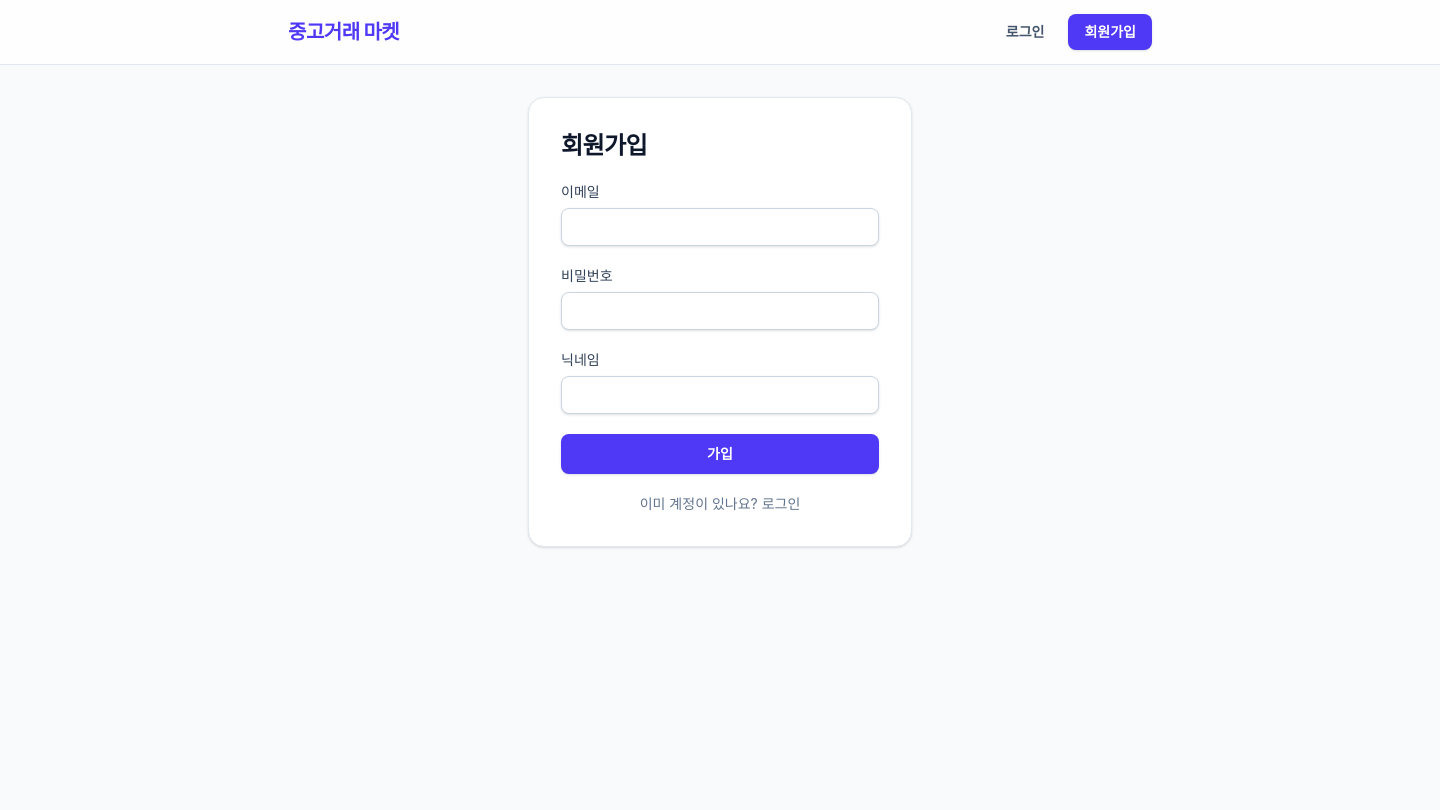
중복 이메일이면 서버 메시지를 alert로 보여준다
In the field labelled "이메일": (720, 227) x1=561 y1=208 x2=879 y2=246, type "a@b.com"
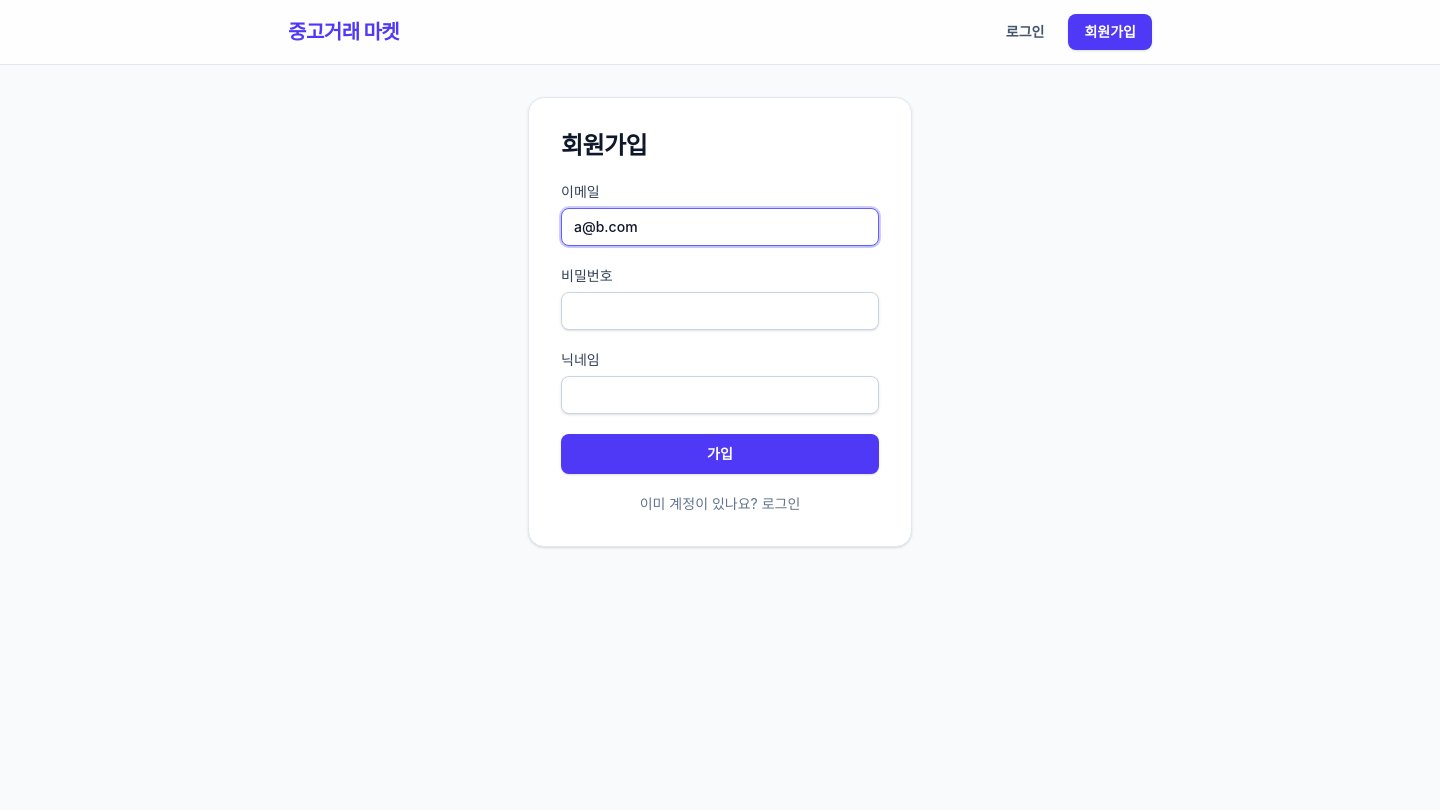
In the password field labelled "비밀번호": (720, 311) x1=561 y1=292 x2=879 y2=330, type "password123"
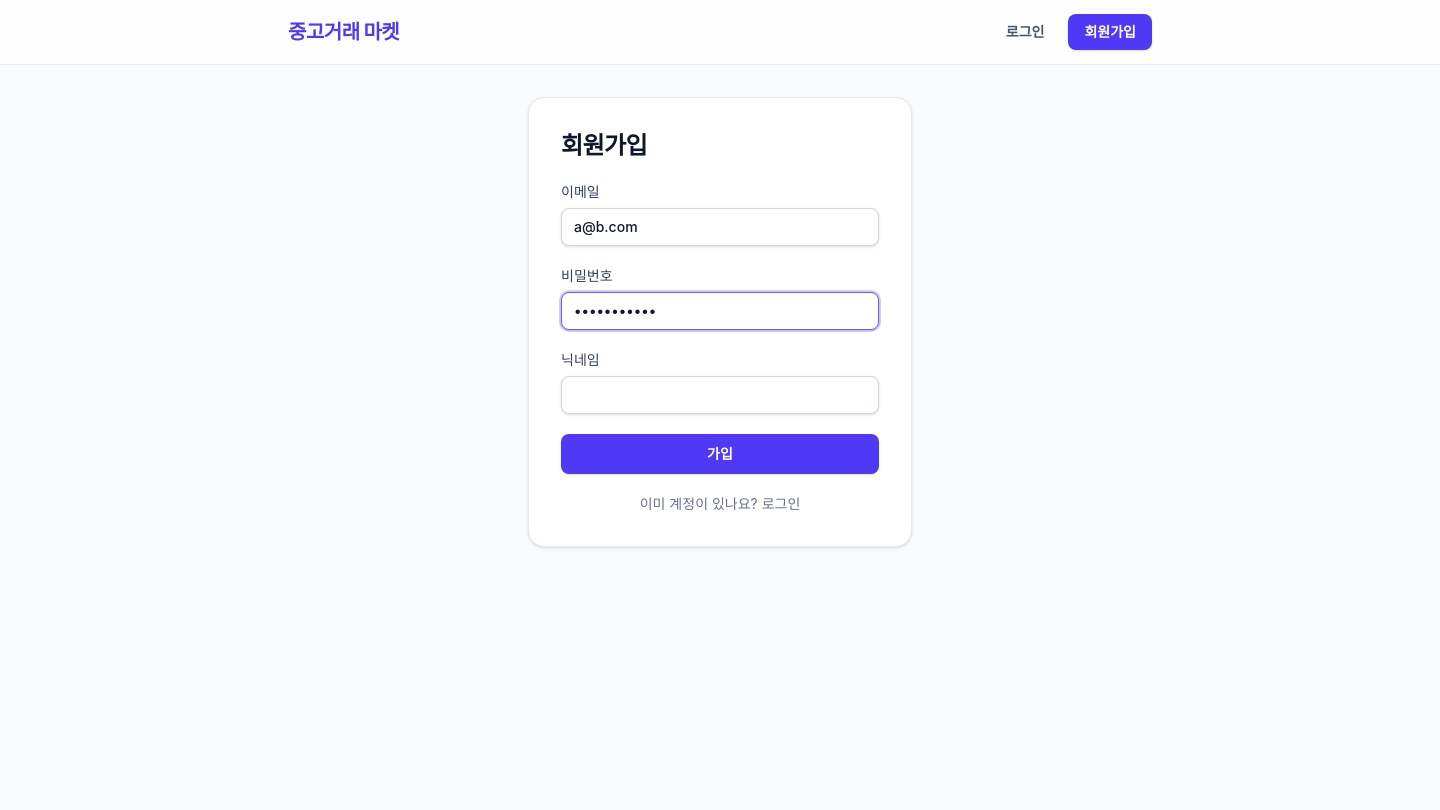
In the field labelled "닉네임": (720, 395) x1=561 y1=376 x2=879 y2=414, type "닉"
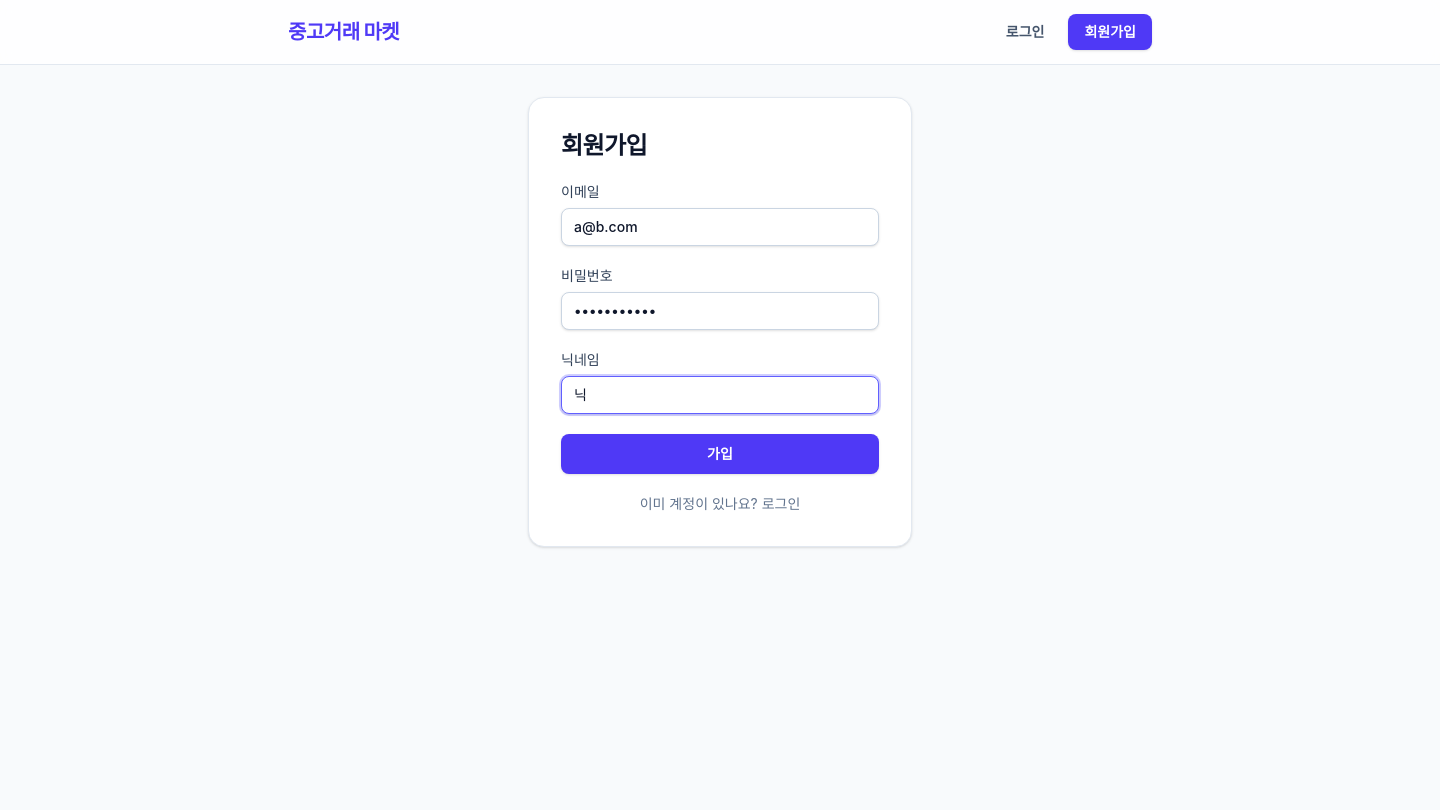
Click the button "가입": (720, 454) x1=561 y1=434 x2=879 y2=474
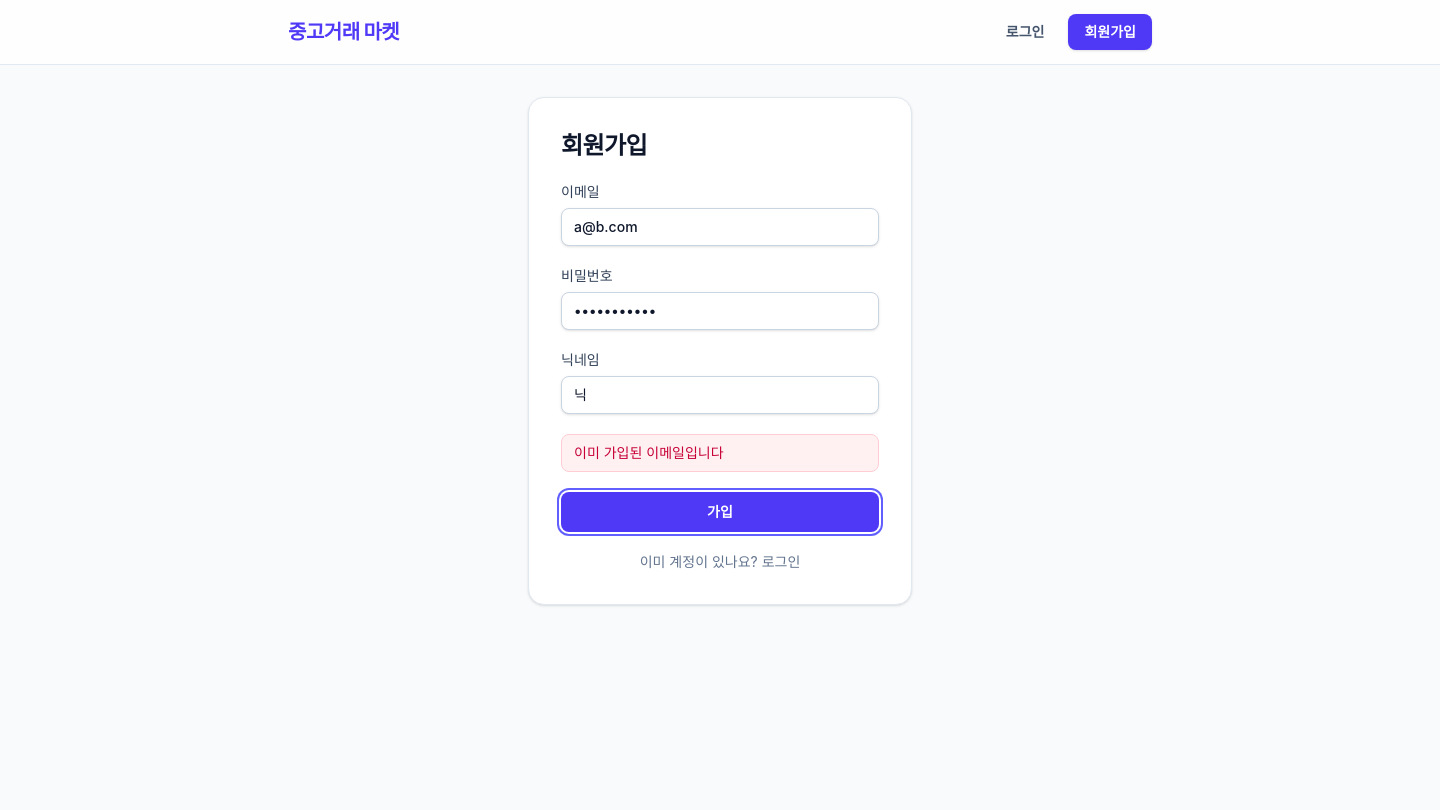
expect the message shows "이미 가입된 이메일": met, box x1=574 y1=444 x2=724 y2=461
